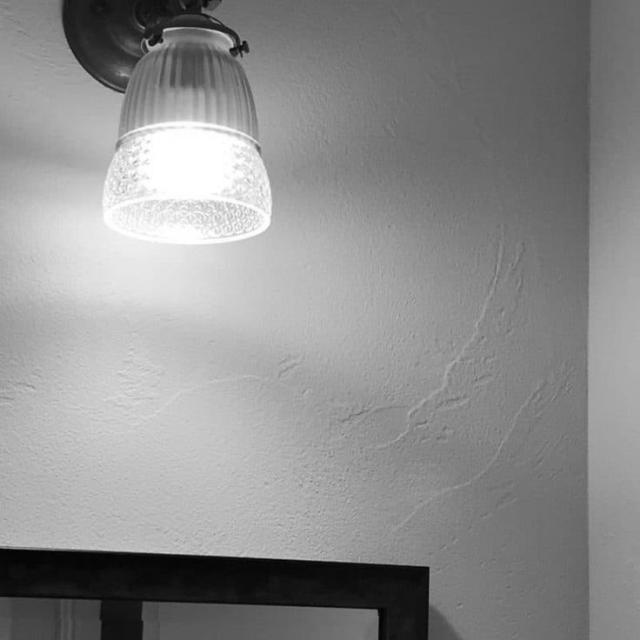trowels marks: (329, 171, 587, 568), (3, 324, 327, 510)
